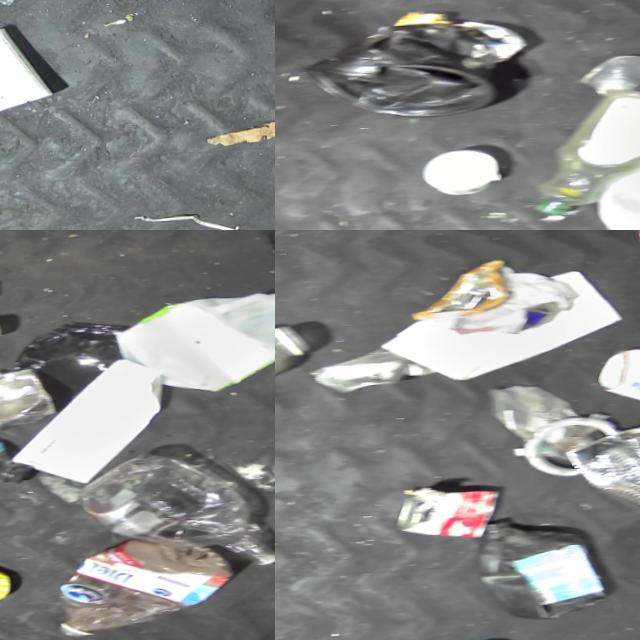can: (405, 255, 579, 343), (561, 408, 640, 525), (393, 488, 504, 545), (0, 358, 63, 435), (594, 346, 640, 413)
milk_jug: (109, 284, 275, 396)
non_white_jug: (304, 19, 498, 123), (476, 514, 614, 626)
plastic_bottle: (54, 532, 244, 638), (275, 323, 315, 413), (0, 417, 34, 494)
